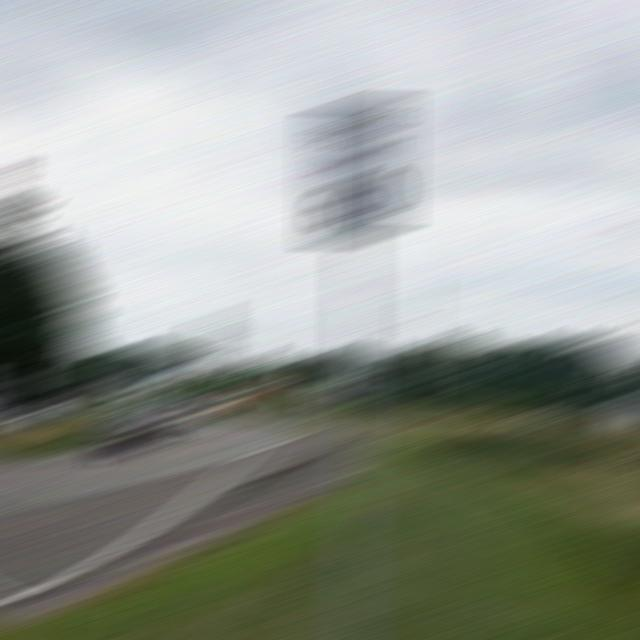speedLimit60: (315, 113, 399, 225)
